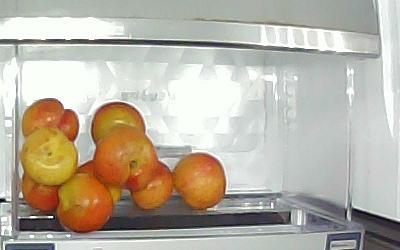prune: (93, 127, 157, 192), (172, 152, 227, 209), (55, 176, 112, 231), (22, 129, 77, 184), (90, 103, 150, 150), (21, 98, 79, 146), (130, 159, 172, 210), (75, 159, 121, 204), (22, 171, 59, 211)
